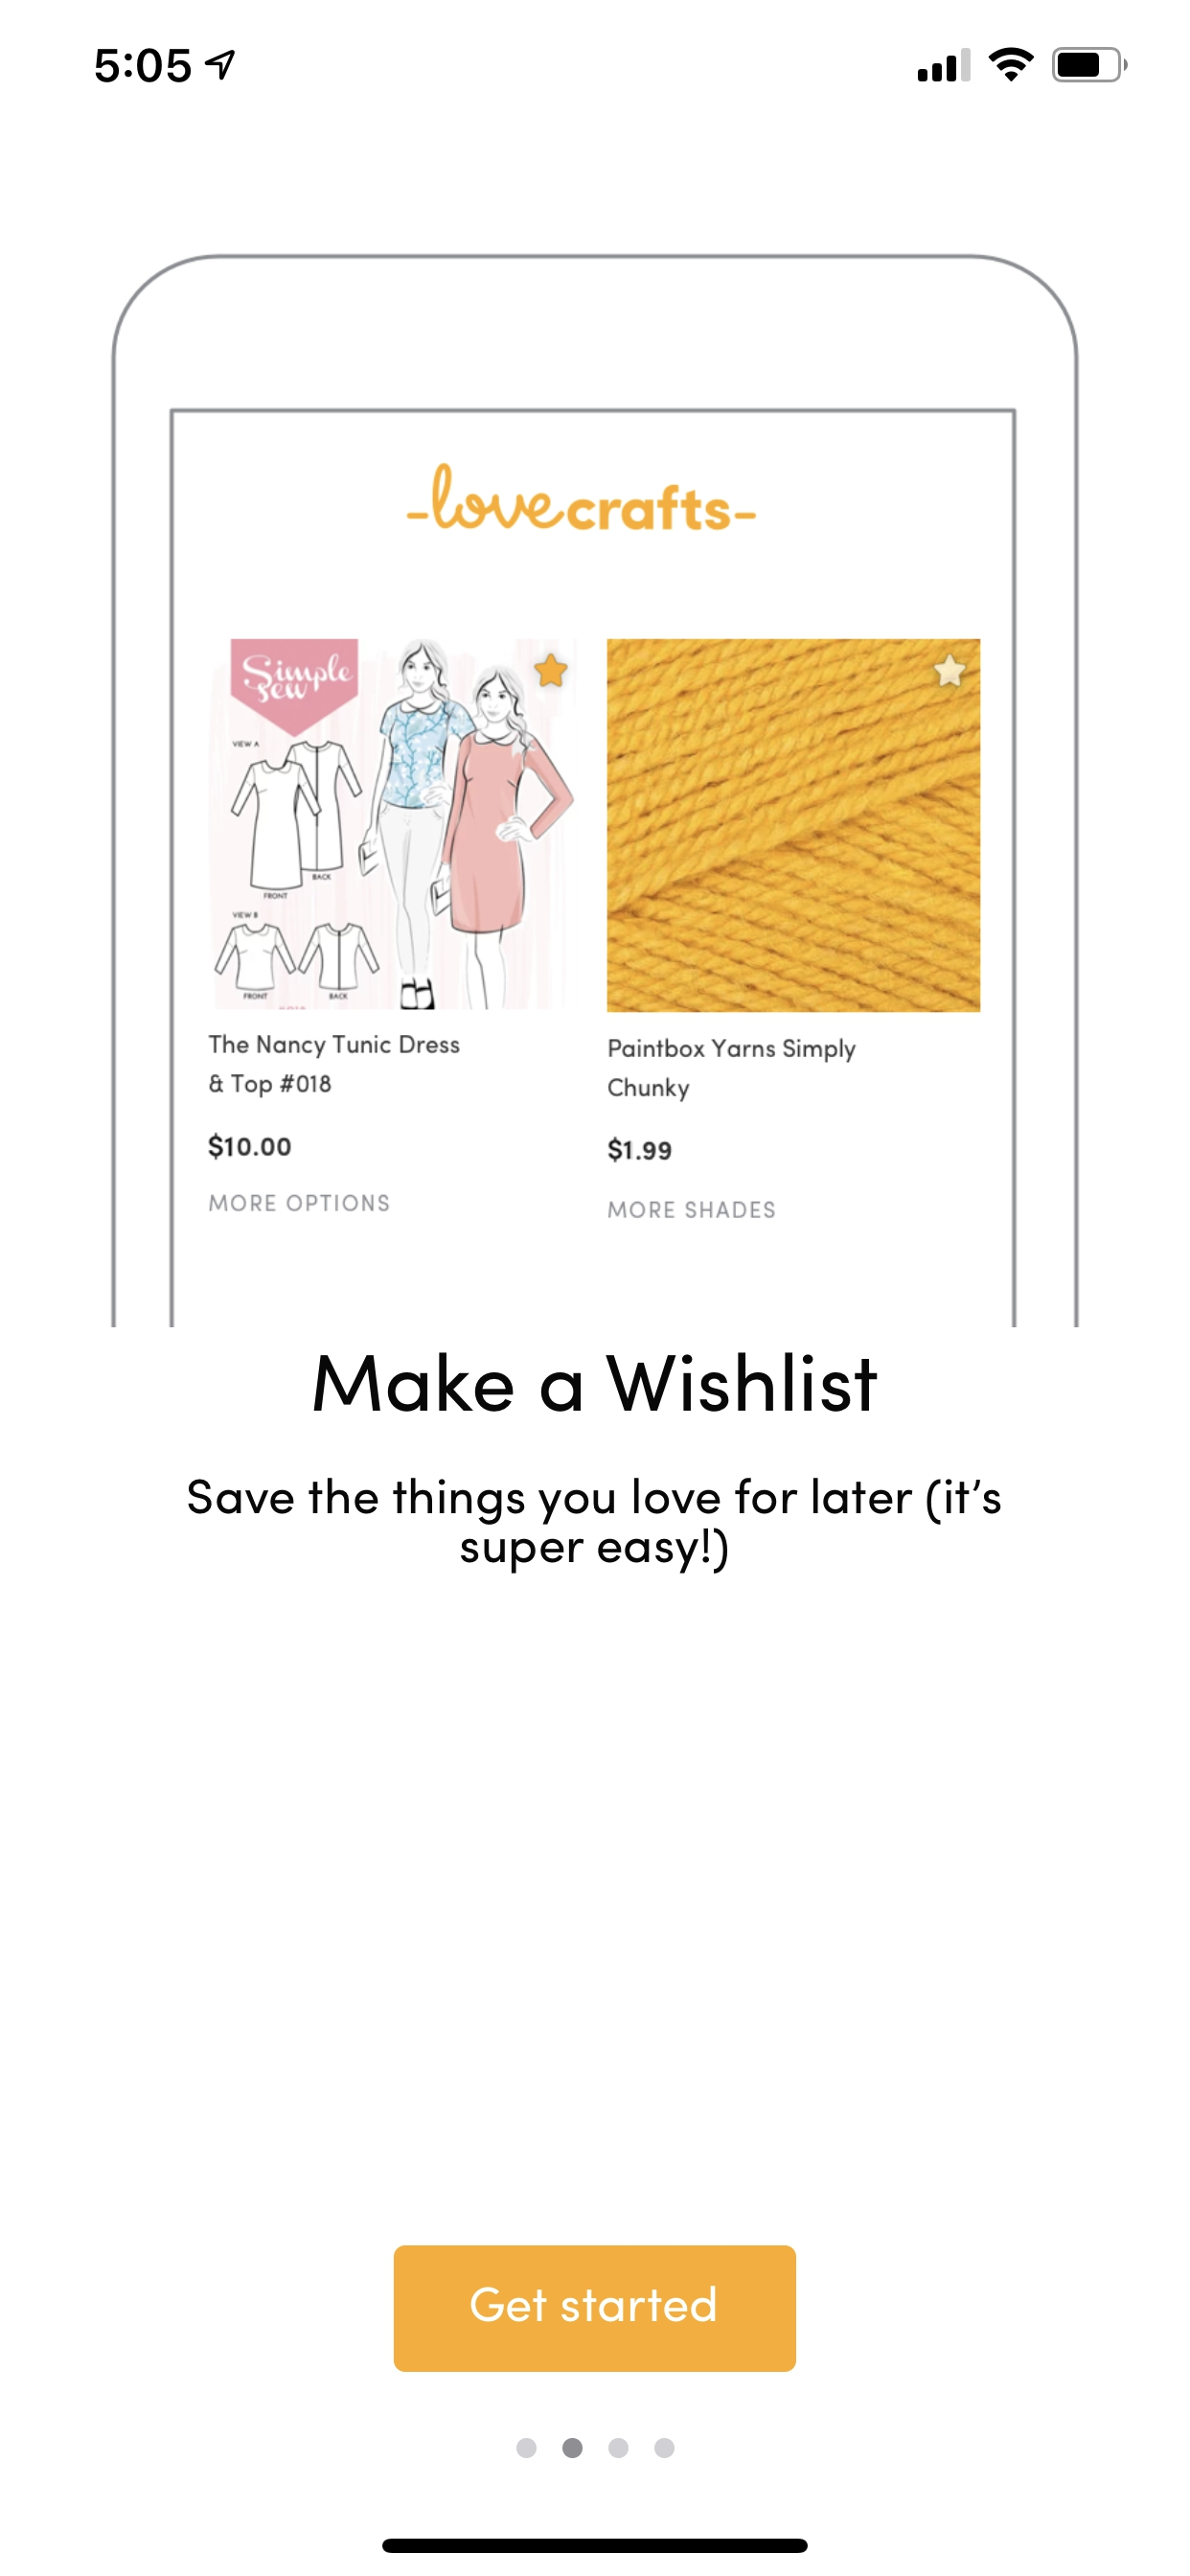Image: (110, 253, 1080, 1327)
PageIndicator: (516, 2436, 676, 2458)
Text: (187, 1477, 1001, 1574), (314, 1350, 878, 1411)
TextButton: (394, 2244, 796, 2372)
UpperTaskBar: (95, 48, 1128, 84)
